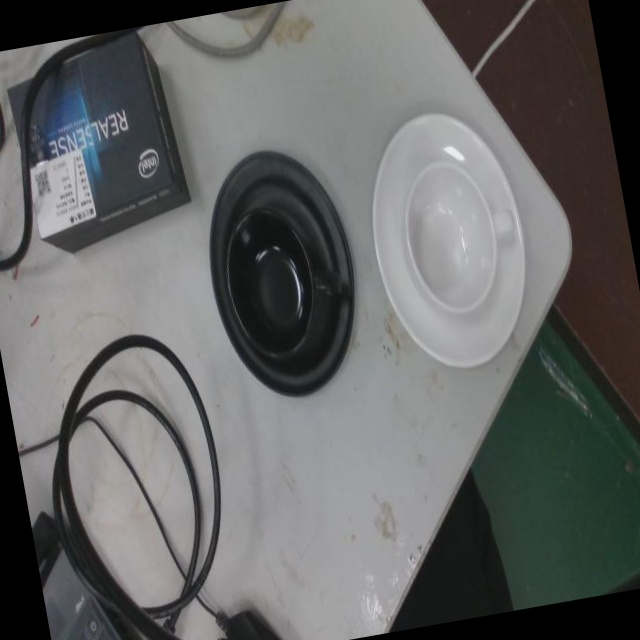black: (209, 143, 356, 406)
white: (372, 105, 526, 376)
